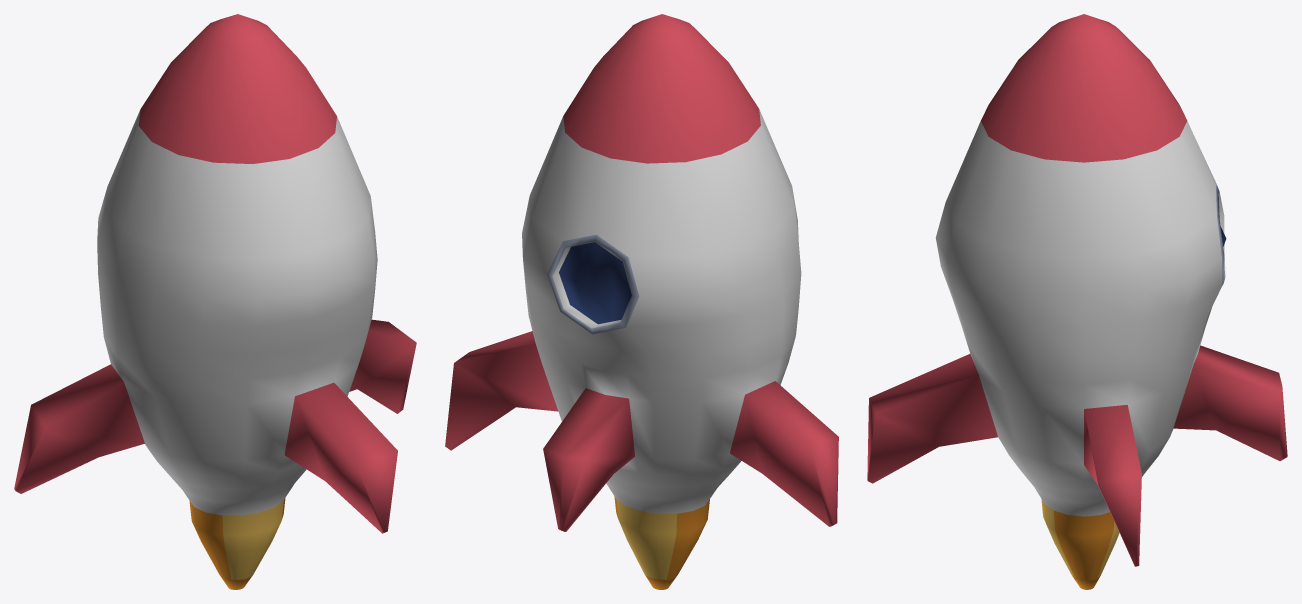
Rendered from FUZZ.fbx.
The picture shows the model from 3 angles, left to right: view 1: azimuth 30°, elevation 25°; view 2: azimuth 150°, elevation 25°; view 3: azimuth 270°, elevation 25°; orthographic projection.
Parts seen in each view (by area): view 1: Sphere.003; view 2: Sphere.003; view 3: Sphere.003.
Boxes of the visible parts, left/top/right/bottom form: Sphere.003: left=14, top=14, right=416, bottom=589; Sphere.003: left=445, top=14, right=838, bottom=589; Sphere.003: left=867, top=14, right=1287, bottom=589.
Bounding box in the file's own units: 256 × 360 × 240.
